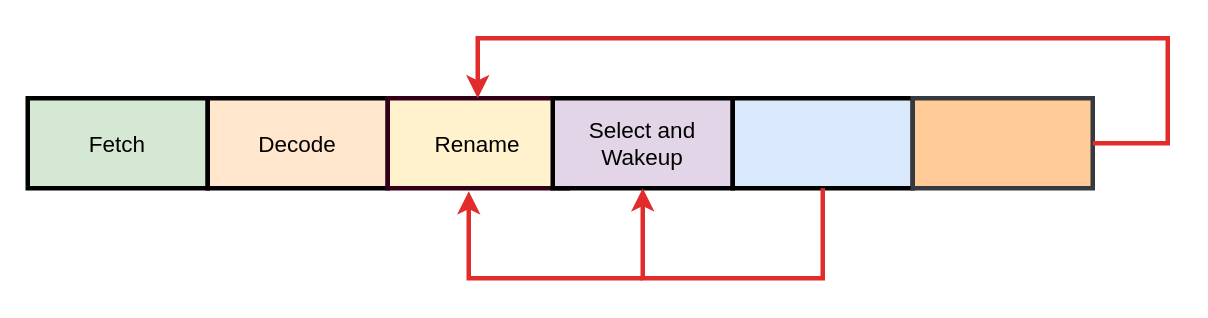
The diagram is 1208 pixels wide and 318 high, and some of its shapes have lost their labels. Here are the shapes that lost their labels. From the top down, the centre of each, then its label:
pixel 822 142: Execute
pixel 1002 142: Commit
